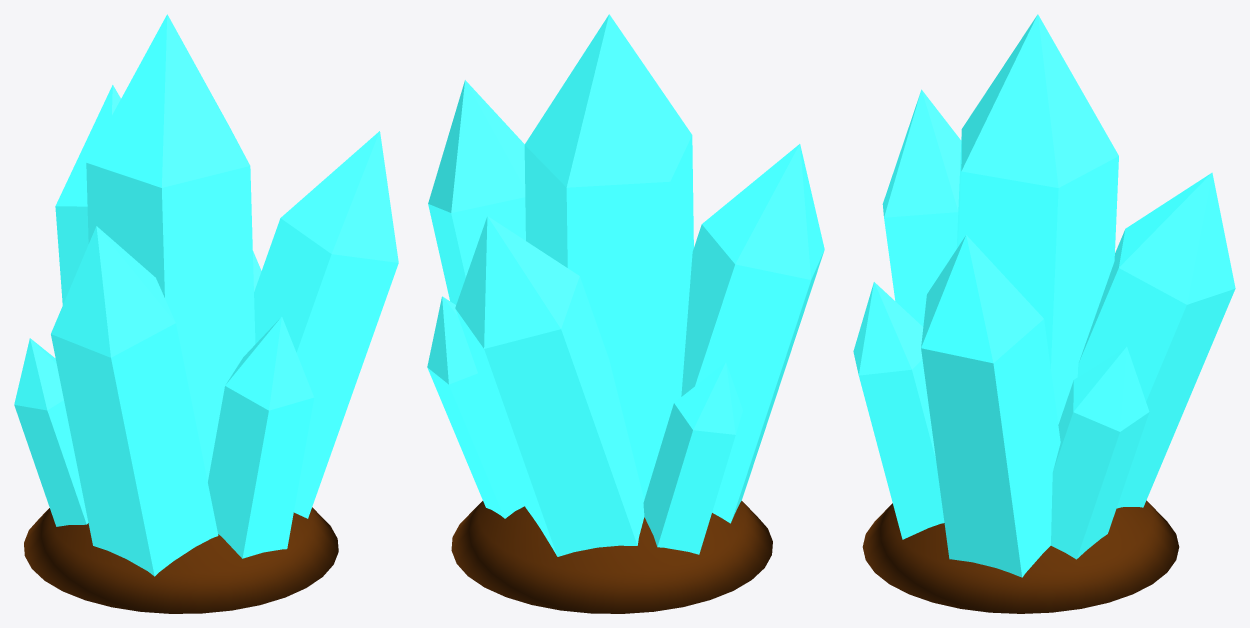
Rendered from Crystal.fbx.
3 renders of one model, left to right at view 1: azimuth 30°, elevation 25°; view 2: azimuth 150°, elevation 25°; view 3: azimuth 270°, elevation 25°, orthographic. The views are drawn at different scales.
Parts seen in each view (by area): view 1: Sphere; view 2: Sphere; view 3: Sphere.
Boxes of the visible parts, x1,y1,x2,y2 form: Sphere: [14, 14, 398, 613]; Sphere: [427, 14, 824, 613]; Sphere: [853, 14, 1235, 613].
Bounding box in the file's own units: 89.06 × 126 × 82.35.
